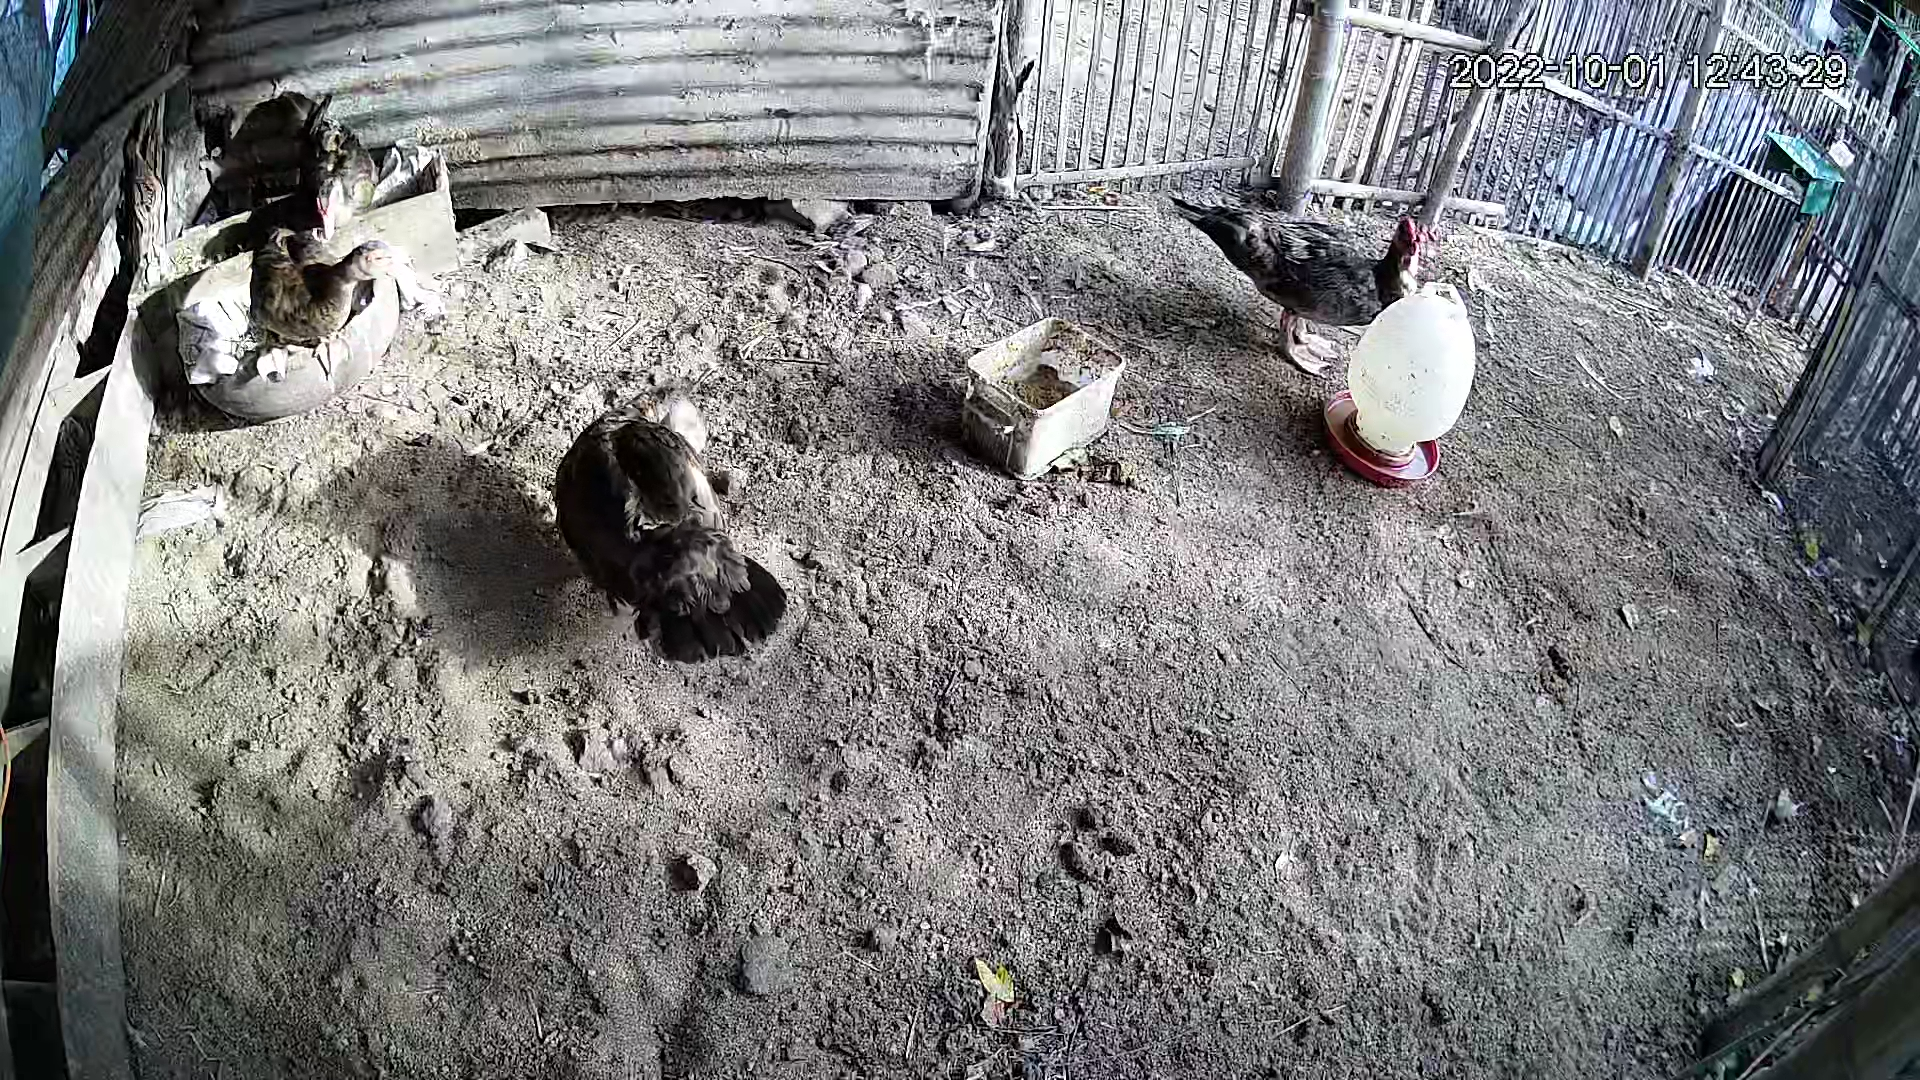Mengeram: (115, 82, 451, 429)
